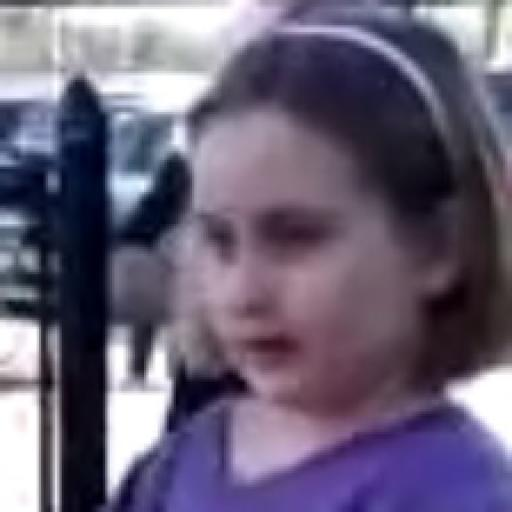Autism: (157, 30, 471, 467)
